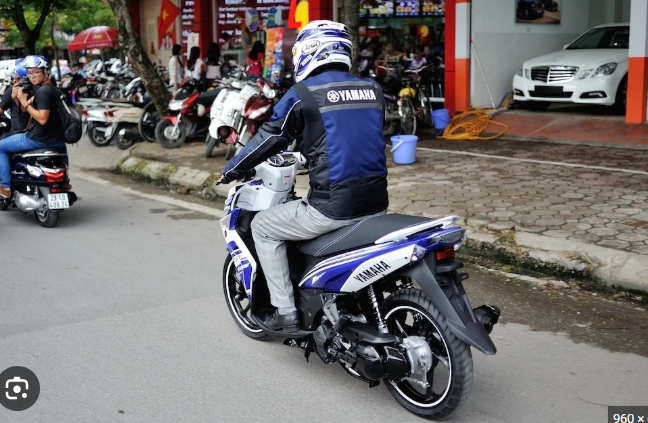bien_so: (46, 193, 71, 210)
